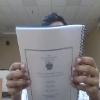notebook: (15, 24, 86, 99)
